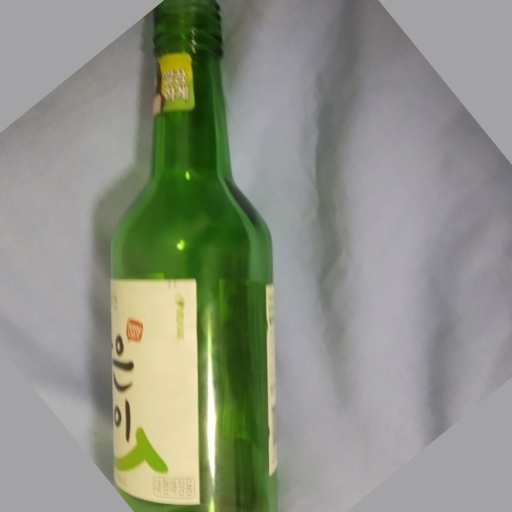Glass_0: (107, 2, 283, 512)
